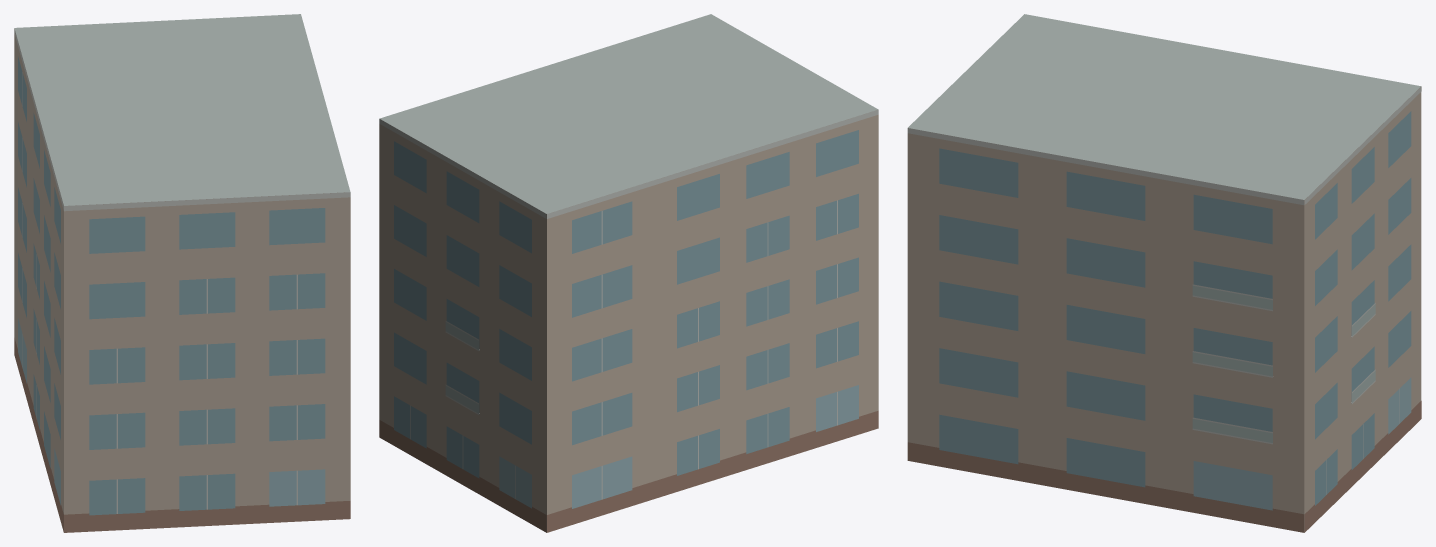
File: survey-upis-32534127.glb
The picture shows the model from 3 angles, left to right: view 1: azimuth 30°, elevation 25°; view 2: azimuth 150°, elevation 25°; view 3: azimuth 270°, elevation 25°; orthographic projection. The views are drawn at different scales.
Parts seen in each view (by area): view 1: survey-upis-32534127.tmp; view 2: survey-upis-32534127.tmp; view 3: survey-upis-32534127.tmp.
Part boxes in pixels (x1,y1,x2,y2): survey-upis-32534127.tmp: [14, 14, 350, 532]; survey-upis-32534127.tmp: [379, 14, 878, 532]; survey-upis-32534127.tmp: [907, 14, 1421, 532].
Size of the model in its own units: 18.29 by 15.25 by 21.35.
